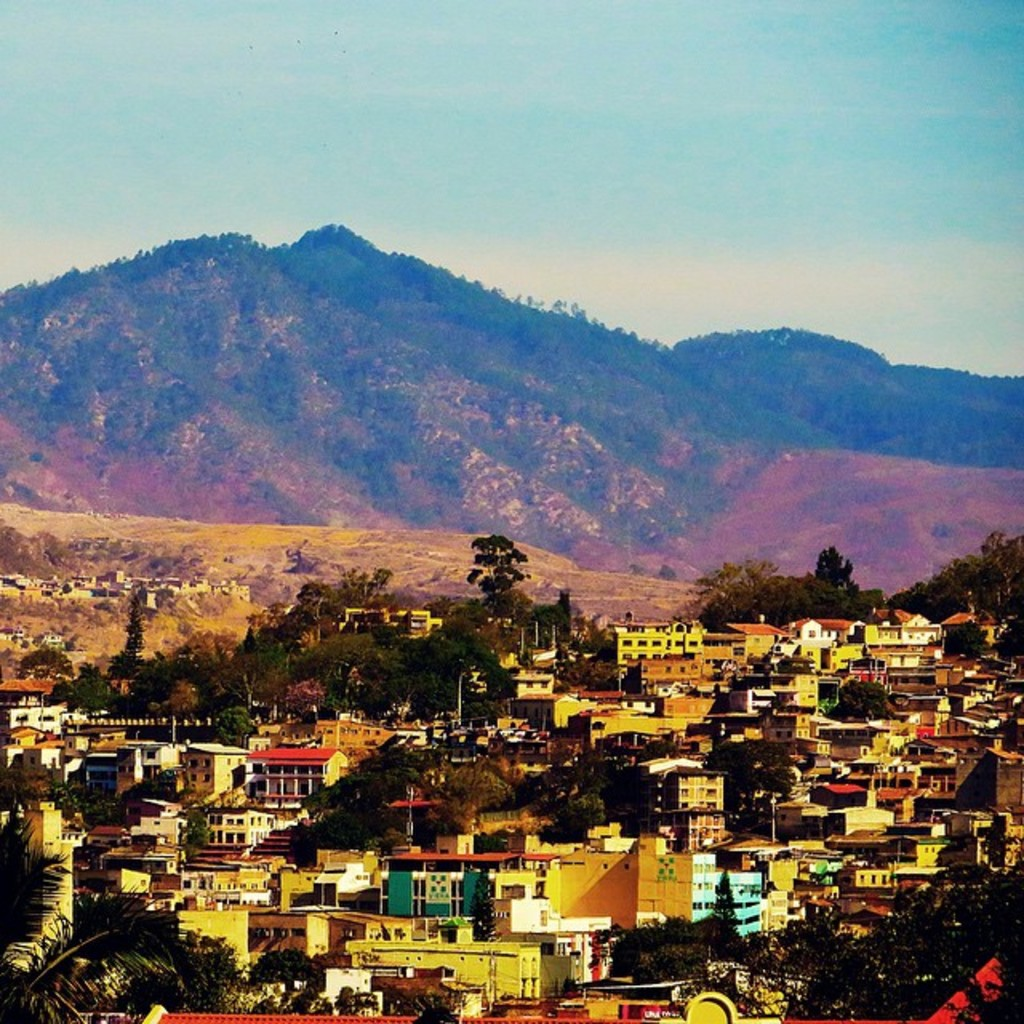Tree: (68, 561, 515, 721), (598, 856, 1022, 1022), (681, 518, 1022, 635), (0, 886, 327, 1008), (283, 731, 627, 843), (460, 518, 536, 612)
